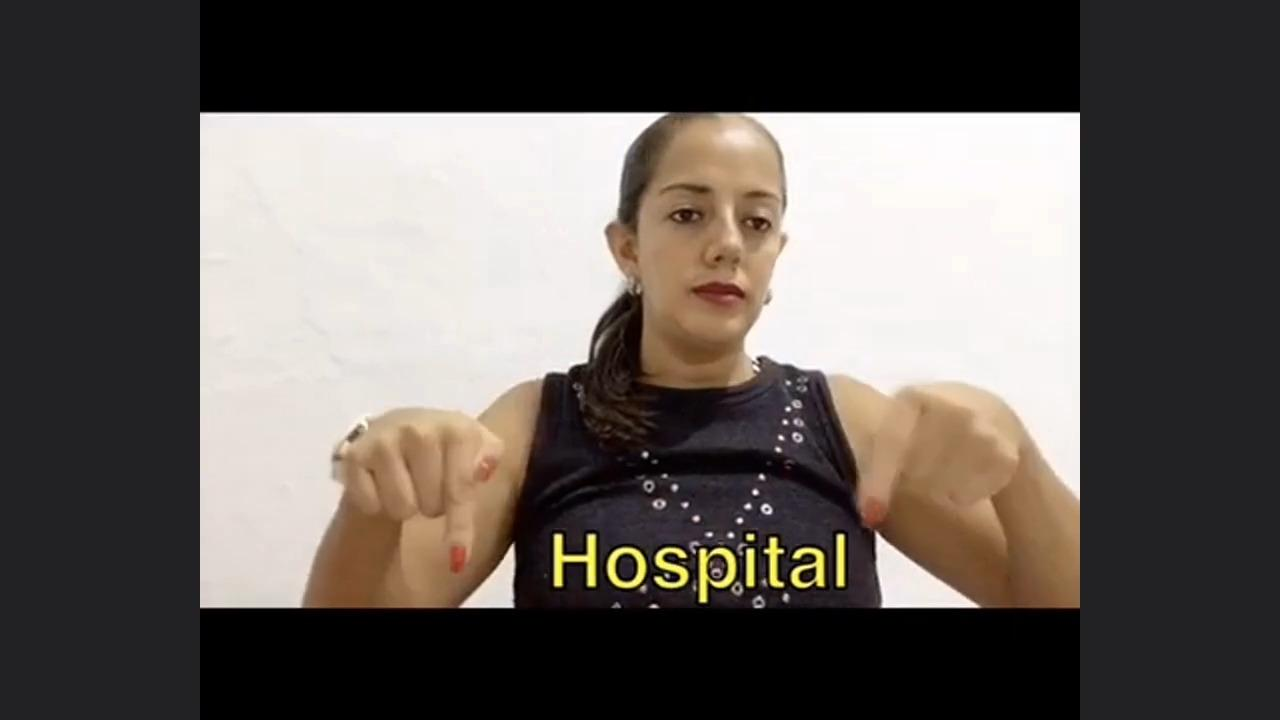Hospital: (288, 366, 1054, 539)
